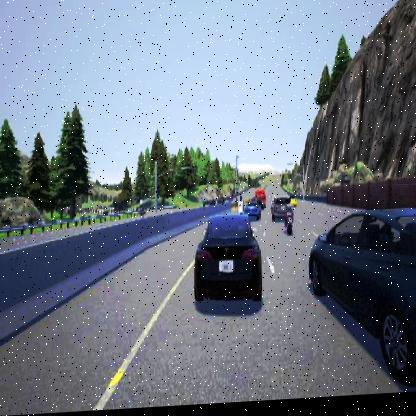motobike: (283, 201, 296, 237)
vehicle: (308, 212, 415, 396), (194, 212, 261, 309), (270, 198, 292, 223), (244, 203, 260, 221)
